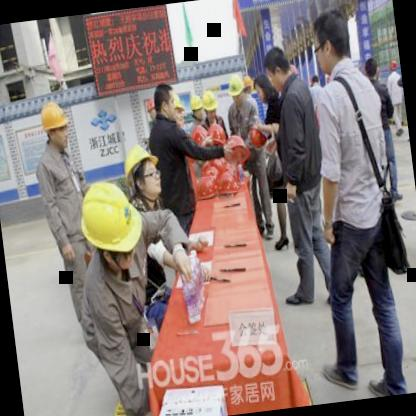head: (310, 6, 355, 77), (150, 78, 184, 126), (260, 42, 290, 92), (252, 72, 277, 105), (362, 51, 382, 87)
helmet: (72, 180, 149, 280), (119, 139, 170, 206), (36, 98, 74, 154), (200, 86, 222, 124), (168, 90, 188, 130), (225, 70, 246, 108), (188, 92, 205, 123)
